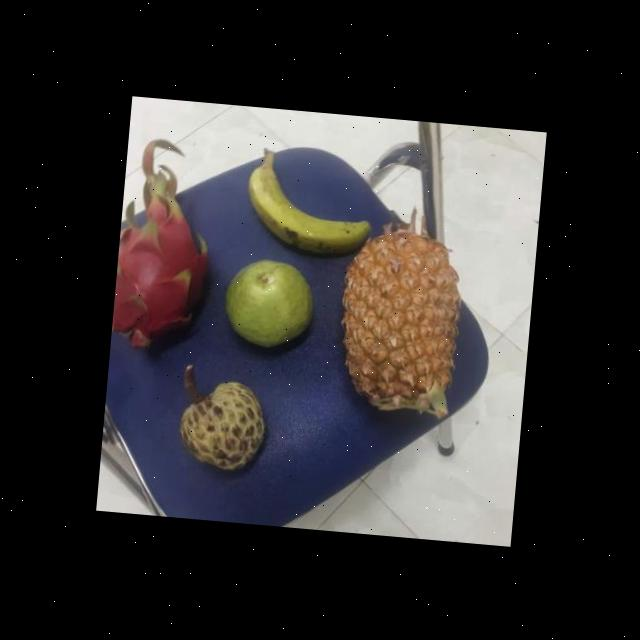Sakya fruit: (172, 370, 274, 474)
banana: (240, 142, 390, 260)
guava: (222, 254, 320, 352)
pineapple: (331, 226, 469, 419)
pitaya: (109, 192, 216, 354)
